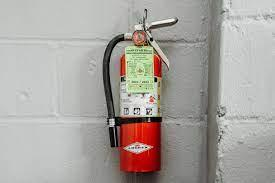wall-mounted: (92, 5, 198, 182)
